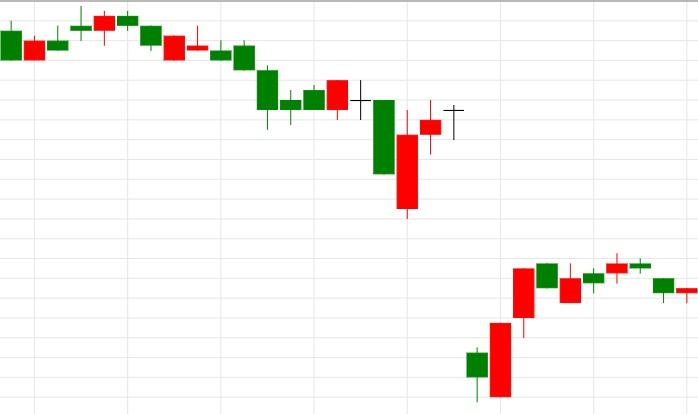bullish_engulfing_rise: (233, 39, 349, 131)
